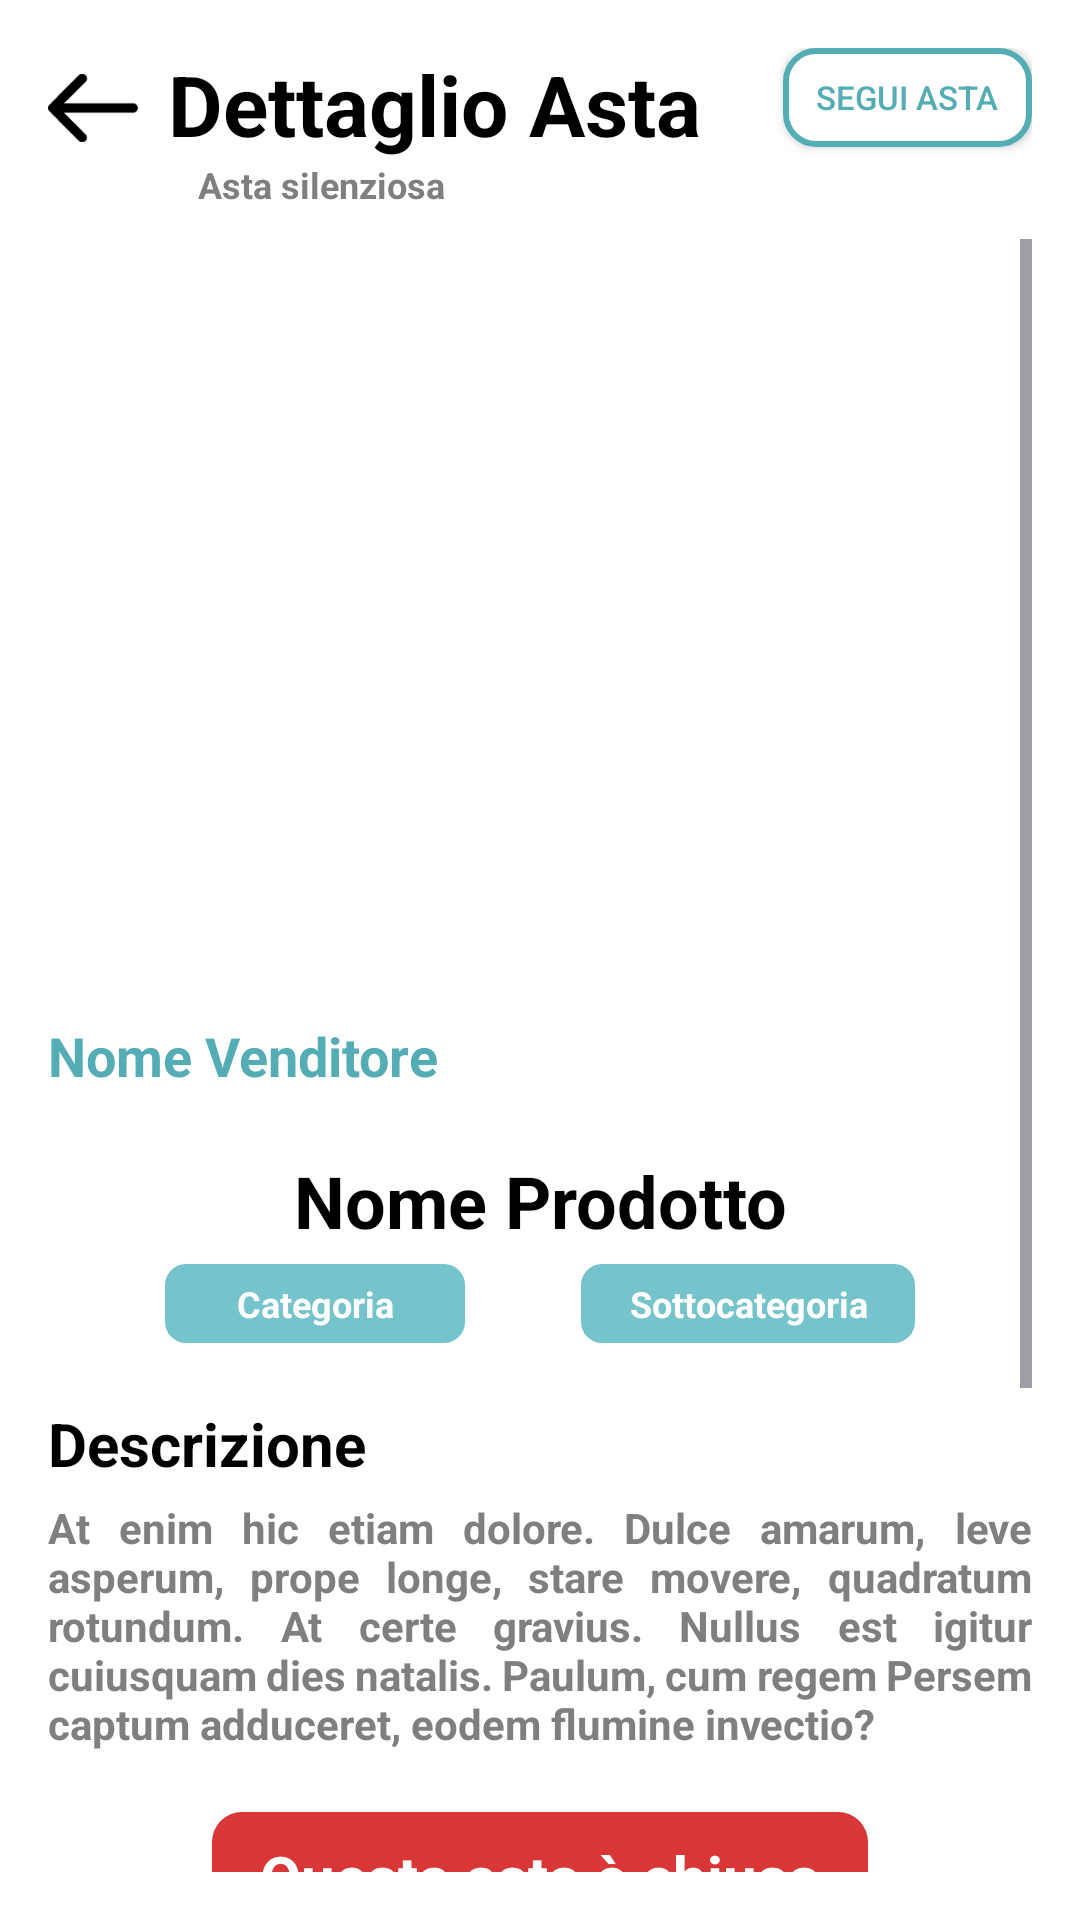

Icon click points for this 1080w x 1920h phone screenshot, format point (x, y):
freccia: point (93, 108)
